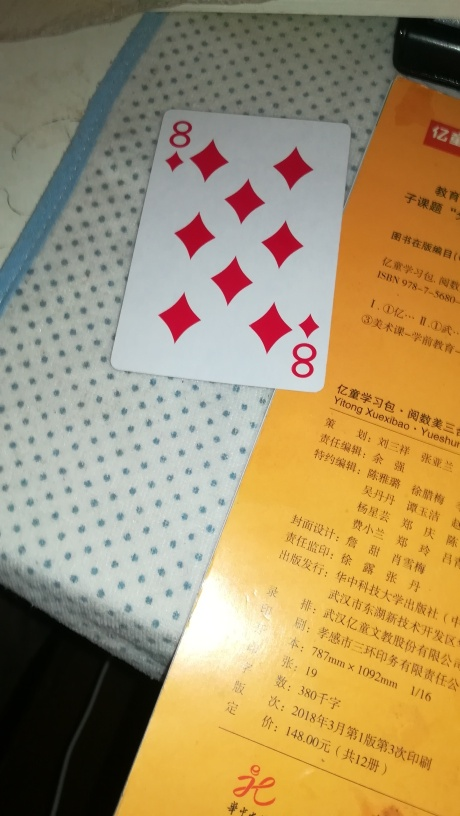fk 8: (107, 108, 351, 399)
